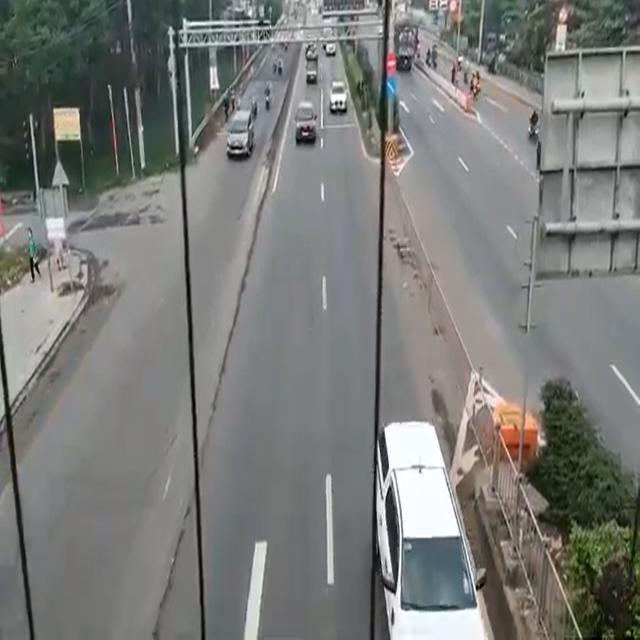car: (374, 425, 482, 640), (222, 108, 254, 162), (296, 105, 315, 144), (329, 82, 346, 110)
